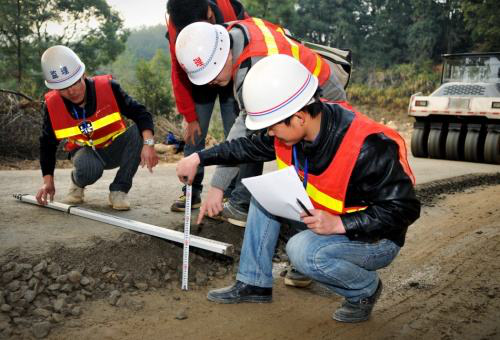safetyhat: (217, 53, 419, 317), (10, 29, 144, 191), (156, 9, 364, 95)
